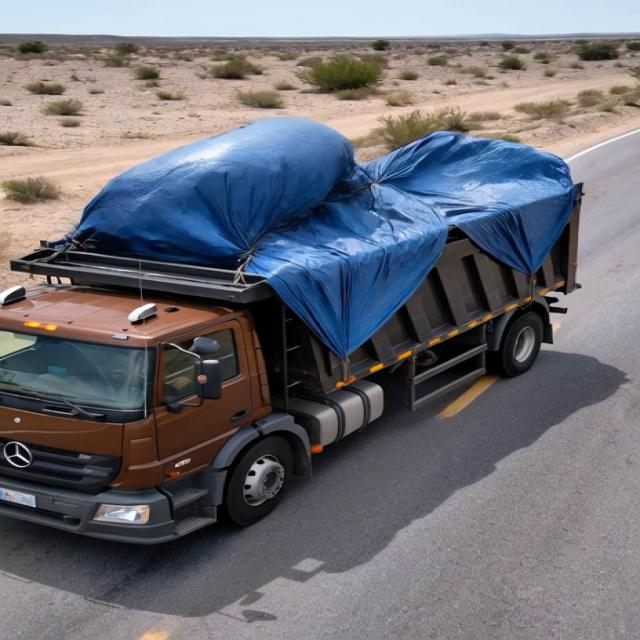trailer: (6, 158, 586, 296)
truck: (3, 122, 619, 546)
